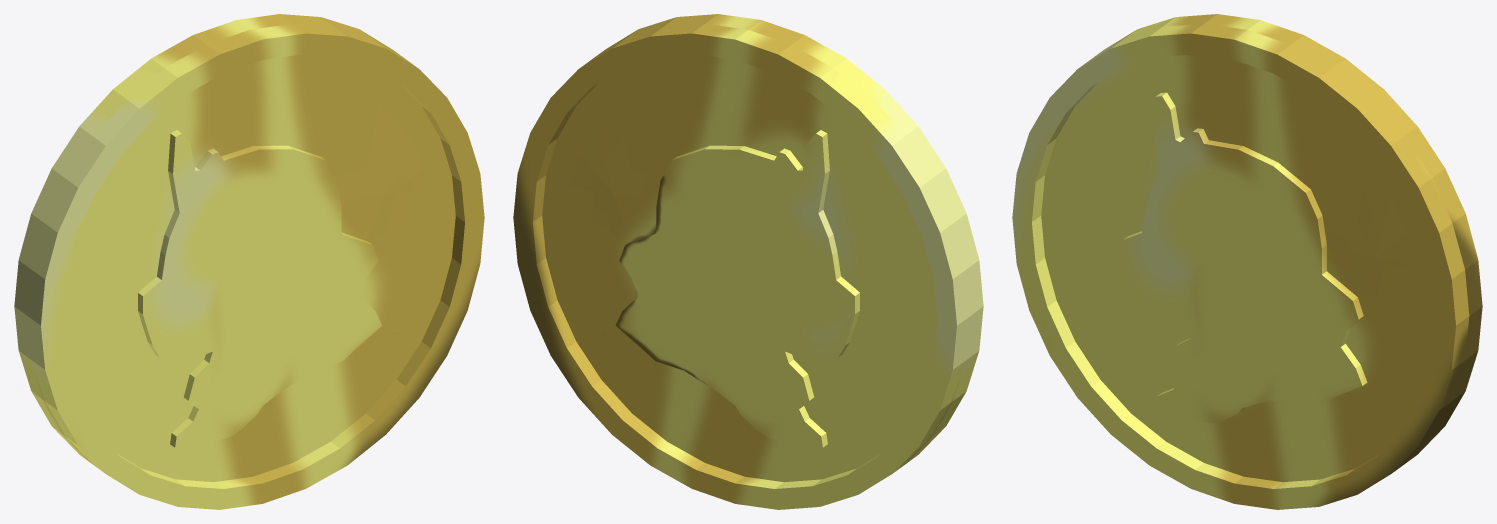
Rendered from coin.fbx.
3 renders of one model, left to right at view 1: azimuth 30°, elevation 25°; view 2: azimuth 150°, elevation 25°; view 3: azimuth 330°, elevation 25°, orthographic.
Parts seen in each view (by area): view 1: Sphere; view 2: Sphere; view 3: Sphere.
Boxes of the visible parts, x1,y1,x2,y2 form: Sphere: (14, 14, 484, 509); Sphere: (513, 14, 983, 509); Sphere: (1012, 14, 1482, 509).
Bounding box in the file's own units: 327 × 327 × 33.97.
Materials: 1 (1 with a texture image).
